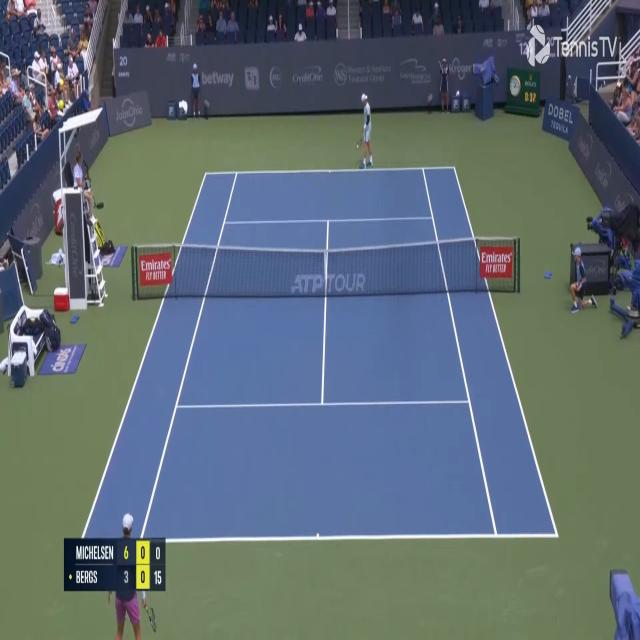tennis-player: (106, 506, 160, 639), (355, 90, 374, 170)
